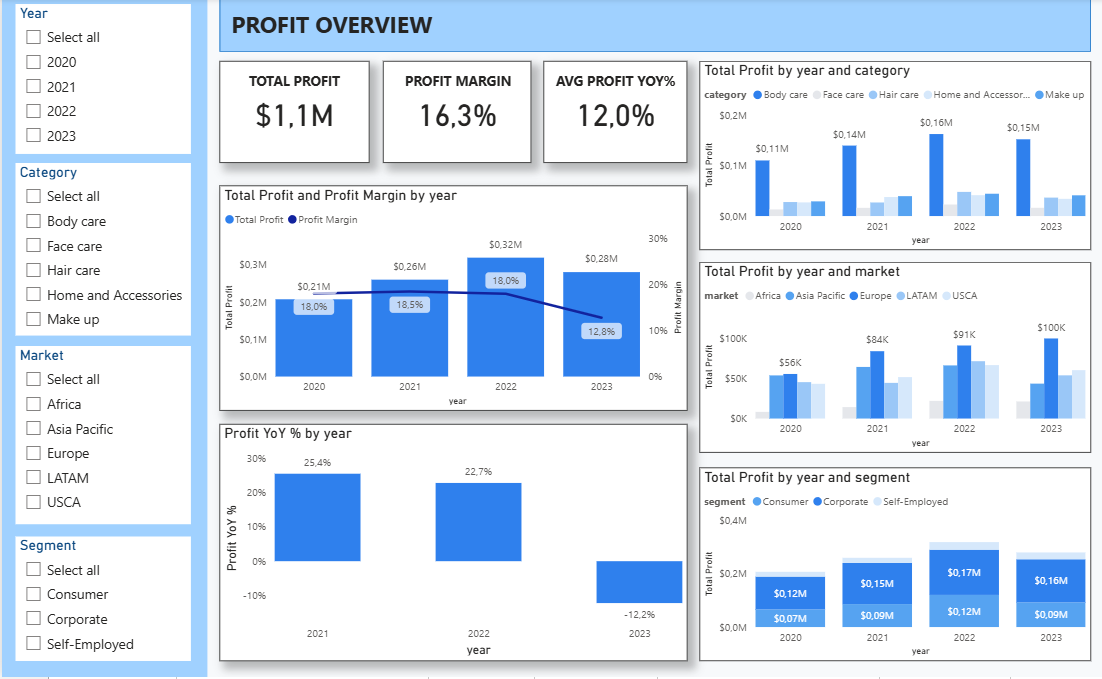

The dashboard page shown, as its layout file describes it:
{"tool":"powerbi","page":{"name":"Profit","canvas":[1300,800],"ordinal":2},"visuals":[{"type":"shape","box":[0,0,242,800.9],"z":0},{"type":"lineClusteredColumnComboChart","fields":{"Category":["date.year"],"Y":["sales.Total Profit"],"Y2":["sales.Profit Margin"]},"box":[256.3,220.9,551.4,265.1],"z":1000},{"type":"slicer","title":"Year","fields":{"Values":["date.year"]},"box":[15.9,7.1,206.8,176.7],"z":2000},{"type":"slicer","title":"Category","fields":{"Values":["dim_product.category"]},"box":[15.9,195,206.8,203.2],"z":3000},{"type":"slicer","title":"Market","fields":{"Values":["dim_region.market"]},"box":[15.9,410,206.8,210.3],"z":4000},{"type":"slicer","title":"Segment","fields":{"Values":["sales.segment"]},"box":[15.9,634.5,206.8,146.7],"z":5000},{"type":"card","fields":{"Values":["sales.Total Profit"]},"box":[256.3,74.2,176.7,120.2],"z":6000},{"type":"card","fields":{"Values":["sales.Profit Margin"]},"box":[448.9,74.2,175,120.2],"z":7000},{"type":"card","fields":{"Values":["sales.Avg Profit YoY %"]},"box":[638,74.2,169.7,120.2],"z":8000},{"type":"clusteredColumnChart","title":"Profit YoY % by year","fields":{"Category":["date.year"],"Y":["sales.Profit YoY %"]},"box":[256.3,501.9,551.4,279.2],"z":9000},{"type":"clusteredColumnChart","title":"Total Profit by year and category","fields":{"Category":["date.year"],"Y":["sales.Total Profit"],"Series":["dim_product.category"]},"box":[821.8,74.2,461.3,222.7],"z":10000},{"type":"clusteredColumnChart","fields":{"Category":["date.year"],"Series":["dim_region.market"],"Y":["sales.Total Profit"]},"box":[821.8,311.1,461.3,224.5],"z":11000},{"type":"columnChart","fields":{"Category":["date.year"],"Y":["sales.Total Profit"],"Series":["sales.segment"]},"box":[821.8,553.2,461.3,228],"z":12000},{"type":"shape","box":[256.3,0,1026.8,63.6],"z":13000},{"type":"textbox","box":[265.6,7.9,1007.5,74.8],"z":14000},{"type":"textbox","box":[463,81.3,148.5,31.8],"z":15000},{"type":"textbox","box":[270.4,81.3,148.5,31.8],"z":16000},{"type":"textbox","box":[643.3,81.3,159.1,31.8],"z":17000}]}

Visuals, with their boxes in screenshot pixels (x1, y1, x2, y2), scaled from the page's 1300x800 canvas onto the 1102x679 screenshot:
shape: bbox=(0, 0, 205, 678)
lineClusteredColumnComboChart - date.year x sales.Total Profit: bbox=(217, 187, 685, 412)
"Year" slicer: bbox=(13, 6, 189, 156)
"Category" slicer: bbox=(13, 166, 189, 338)
"Market" slicer: bbox=(13, 348, 189, 526)
"Segment" slicer: bbox=(13, 539, 189, 663)
card - sales.Total Profit: bbox=(217, 63, 367, 165)
card - sales.Profit Margin: bbox=(381, 63, 529, 165)
card - sales.Avg Profit YoY %: bbox=(541, 63, 685, 165)
"Profit YoY % by year" clusteredColumnChart: bbox=(217, 426, 685, 663)
"Total Profit by year and category" clusteredColumnChart: bbox=(697, 63, 1088, 252)
clusteredColumnChart - date.year x dim_region.market: bbox=(697, 264, 1088, 455)
columnChart - date.year x sales.Total Profit: bbox=(697, 470, 1088, 663)
shape: bbox=(217, 0, 1088, 54)
textbox: bbox=(225, 7, 1079, 70)
textbox: bbox=(392, 69, 518, 96)
textbox: bbox=(229, 69, 355, 96)
textbox: bbox=(545, 69, 680, 96)
